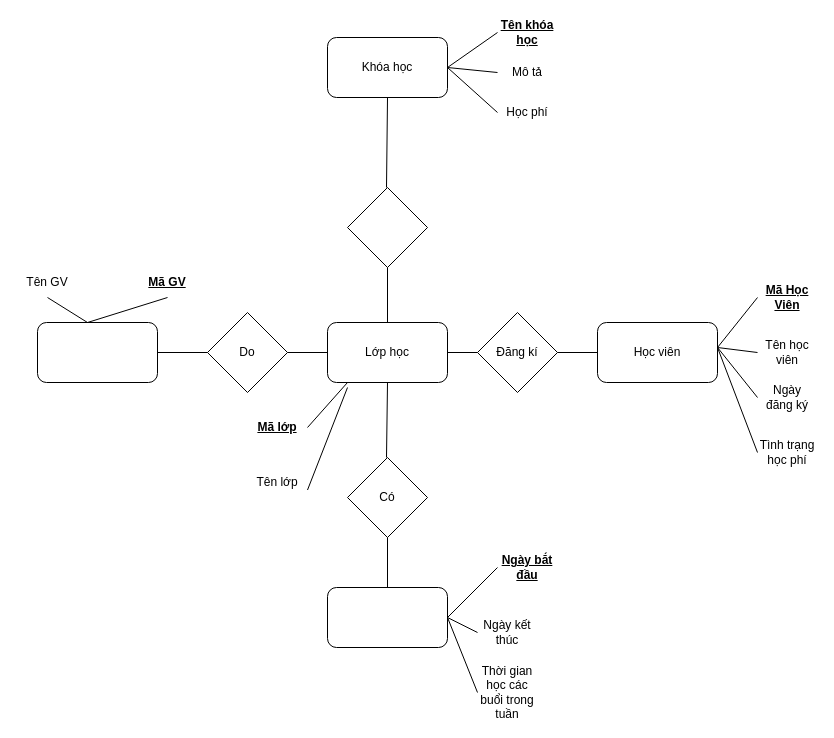
The diagram is 834 pixels wide and 738 high, and some of its shapes have lost their labels. Each missing label, with the centre of its shape:
Giảng viên: [97,352]
Lịch học: [387,617]
Thuộc: [387,227]
